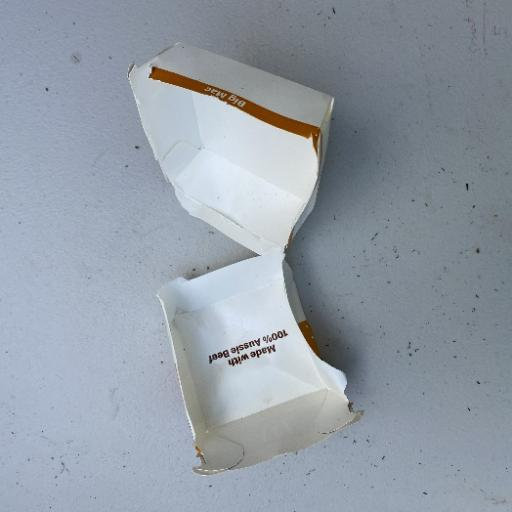Cardboard: (124, 39, 366, 475)
